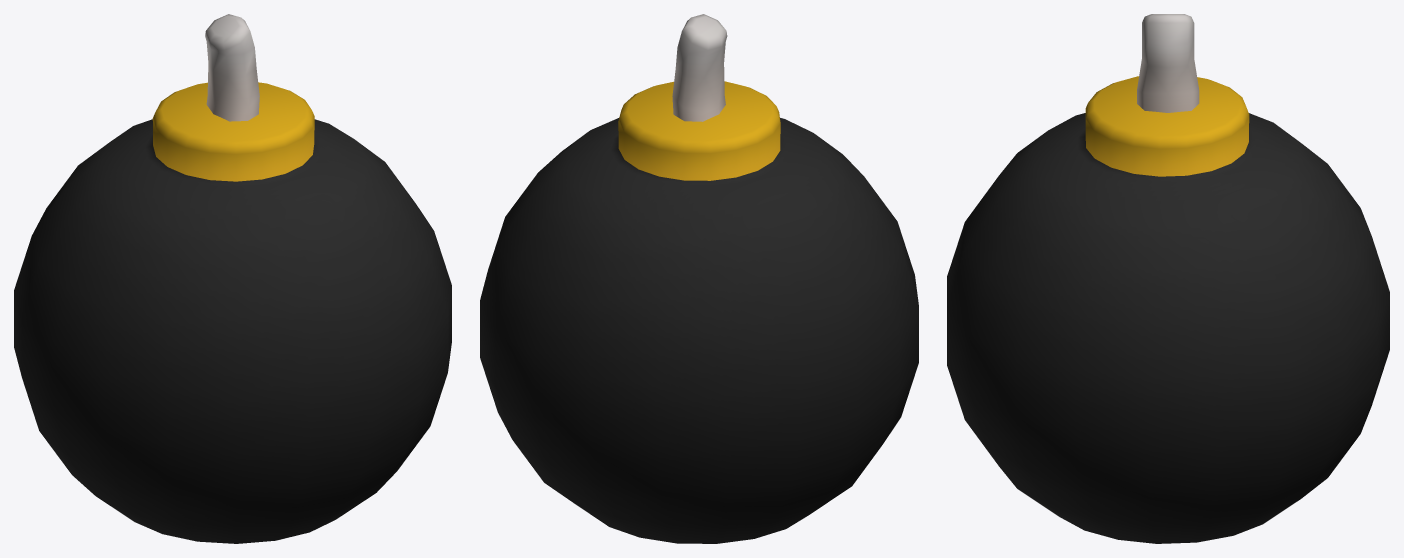
File: Bomb.fbx
3 renders of one model, left to right at view 1: azimuth 30°, elevation 25°; view 2: azimuth 150°, elevation 25°; view 3: azimuth 270°, elevation 25°, orthographic.
Visible parts, largest first — view 1: Bomb; view 2: Bomb; view 3: Bomb.
Part boxes in pixels (box(x1,y1,x2,y2)): Bomb: box(14, 14, 451, 543); Bomb: box(480, 14, 918, 543); Bomb: box(947, 14, 1389, 543).
Bounding box in the file's own units: 192 × 244 × 191.
